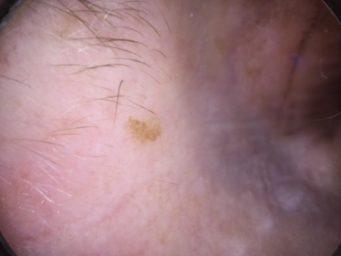nevus: (125, 117, 163, 142)
